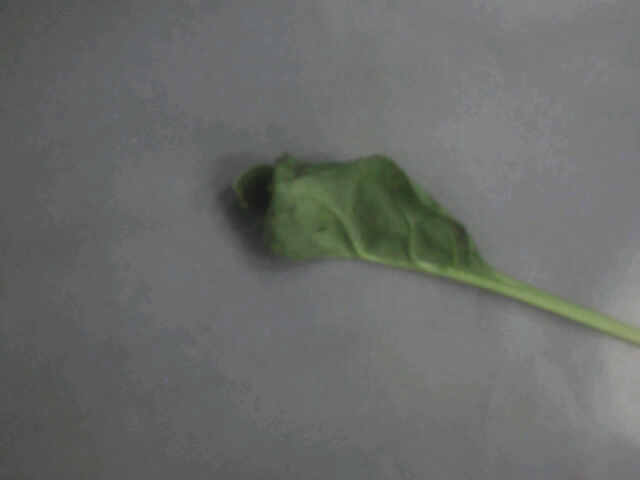yellow: (202, 126, 577, 350)
